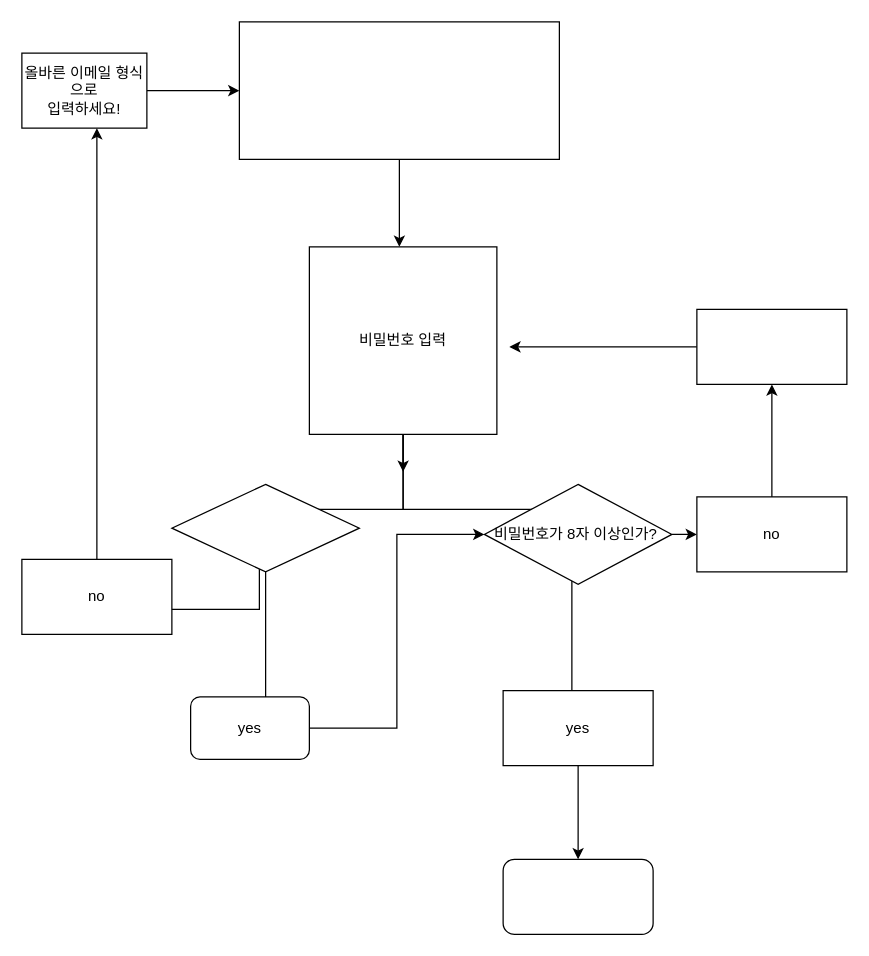
This 869x956 diagram has some shape labels left out. Here are the shapes that lost their labels. From the top down, the centre of each, then its label:
point 398,90: 이메일 입력
point 771,346: 비밀번호를 8자이상 입력하시오.
point 265,527: 이메일에 "@"가 포함 되어 있는가?
point 577,896: 로그인 버튼 활성화
